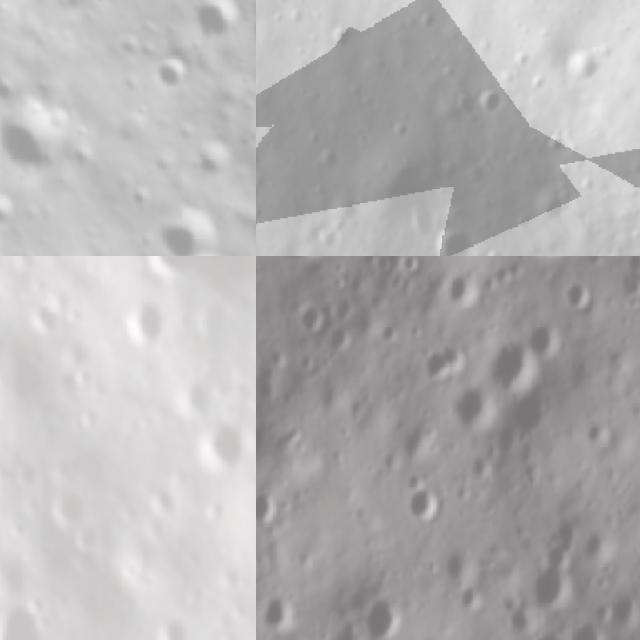crater: (0, 76, 95, 191), (145, 194, 236, 256), (180, 121, 250, 190), (179, 0, 256, 55), (142, 40, 203, 107), (192, 416, 252, 483), (118, 295, 178, 359), (488, 339, 543, 393), (450, 381, 500, 437), (24, 286, 70, 344), (558, 40, 610, 91), (0, 589, 51, 640), (48, 482, 95, 537), (361, 590, 410, 640), (170, 368, 216, 419), (530, 563, 576, 611), (468, 82, 514, 127), (405, 480, 445, 530), (527, 185, 571, 227), (140, 256, 199, 286), (144, 484, 186, 526), (526, 315, 565, 359), (196, 294, 236, 336), (0, 182, 28, 241), (233, 1, 256, 72), (327, 192, 365, 232), (260, 591, 297, 632), (443, 88, 480, 128), (292, 297, 330, 335), (58, 334, 96, 370), (145, 615, 194, 640), (563, 276, 597, 311), (256, 482, 281, 528), (328, 21, 363, 53), (308, 145, 344, 176), (570, 618, 615, 640), (414, 8, 444, 39), (432, 233, 472, 256), (70, 358, 98, 389), (388, 117, 417, 146), (315, 225, 341, 256), (524, 627, 571, 640), (379, 321, 403, 344), (580, 175, 600, 195)
